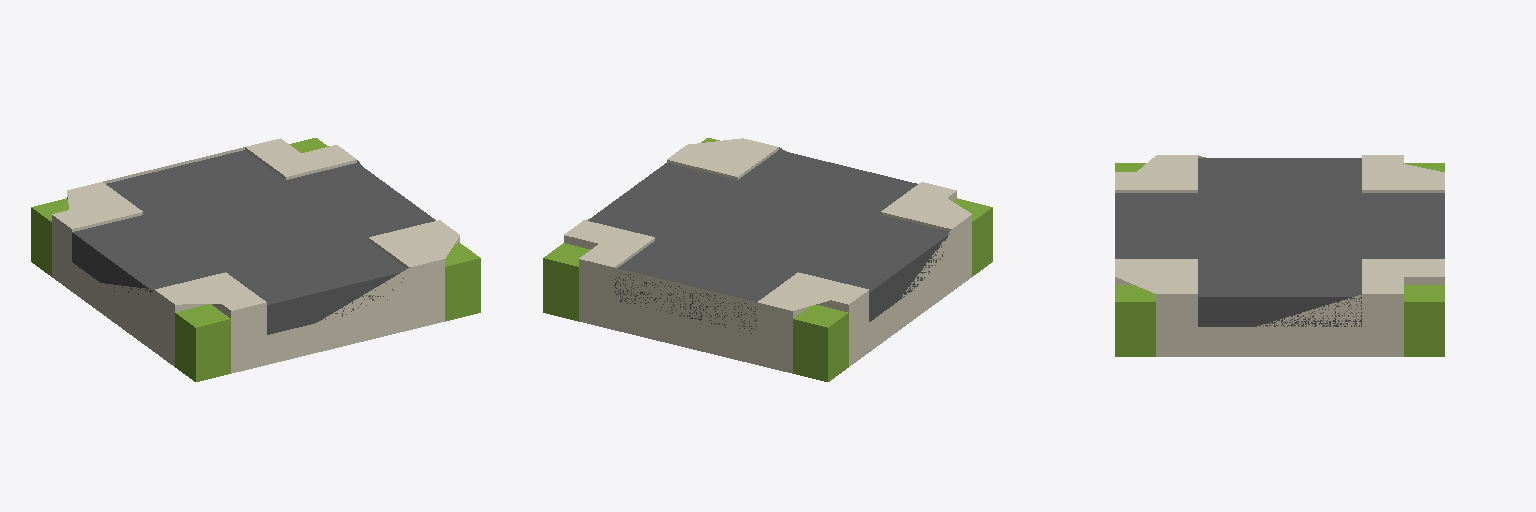
Rendered from roadTile_141.obj.
The picture shows the model from 3 angles: view 1: azimuth 30°, elevation 25°; view 2: azimuth 150°, elevation 25°; view 3: azimuth 270°, elevation 25°; orthographic projection.
Visible parts, largest first — view 1: Mesh1_Group1_Model.003; view 2: Mesh1_Group1_Model.003; view 3: Mesh1_Group1_Model.003.
Part boxes in pixels (x1,y1,x2,y2): Mesh1_Group1_Model.003: (31,138,480,381); Mesh1_Group1_Model.003: (543,138,992,381); Mesh1_Group1_Model.003: (1115,155,1444,356).
Bounding box in the file's own units: 1.08 × 0.2268 × 1.08.